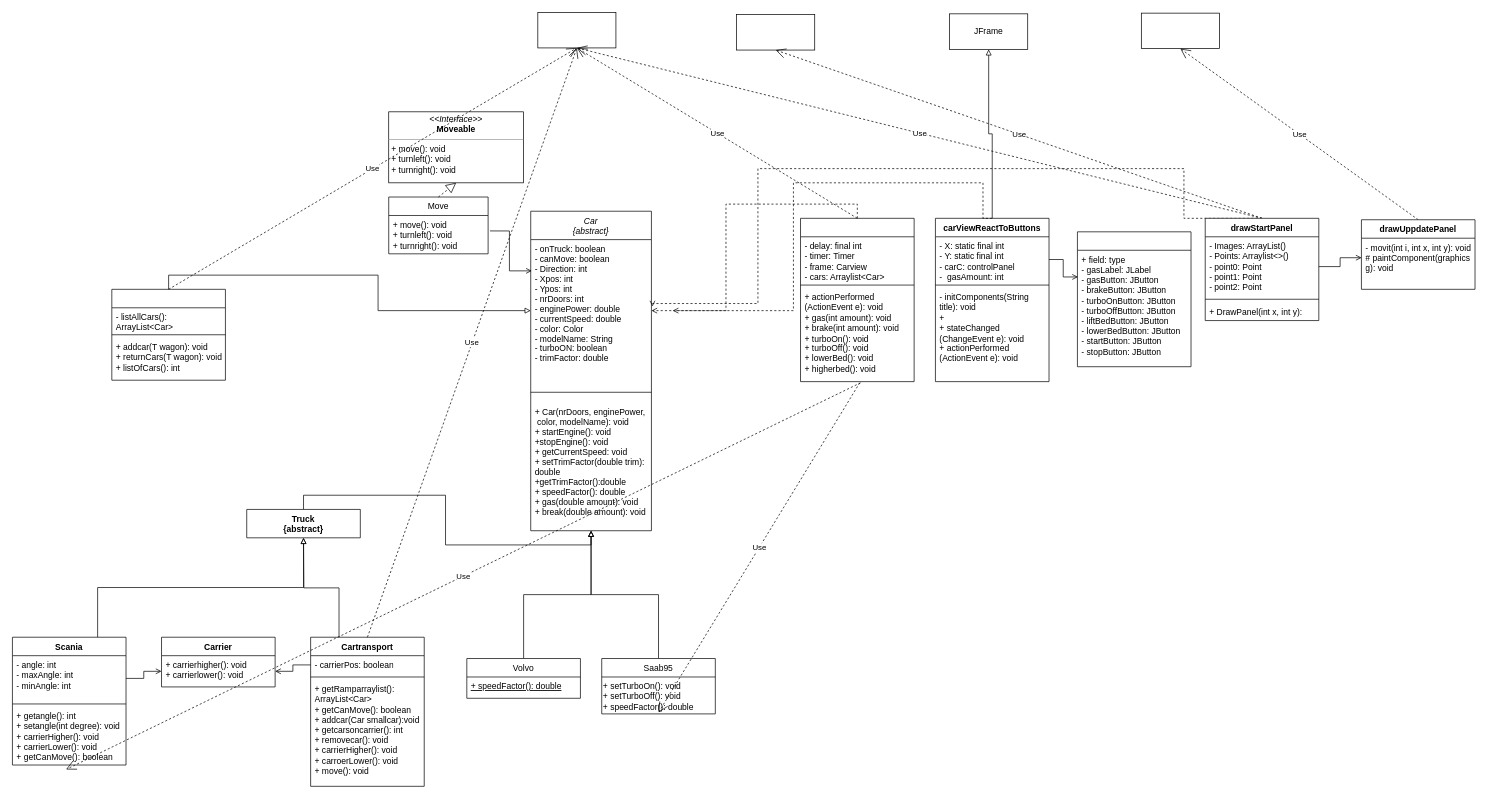
The diagram is 1487 pixels wide and 801 high, and some of its shapes have lost their labels. Each missing label, with the box of its shape:
ArrayList: (537, 12, 616, 48)
CarController: (800, 218, 914, 382)
carViewMakeButtons: (1077, 231, 1191, 367)
Graphics: (1141, 12, 1219, 49)
Point: (736, 14, 815, 50)
Workshop: (111, 289, 225, 380)
